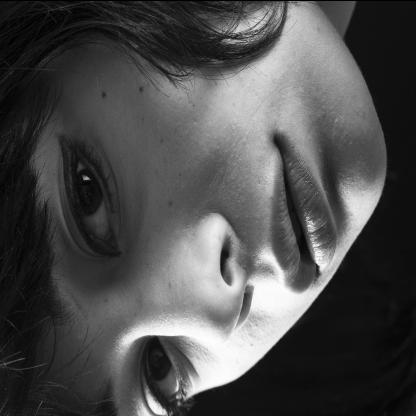Eye: (48, 112, 125, 273), (133, 336, 199, 416)
Mouth: (263, 131, 343, 297)
Nose: (135, 211, 256, 344)
